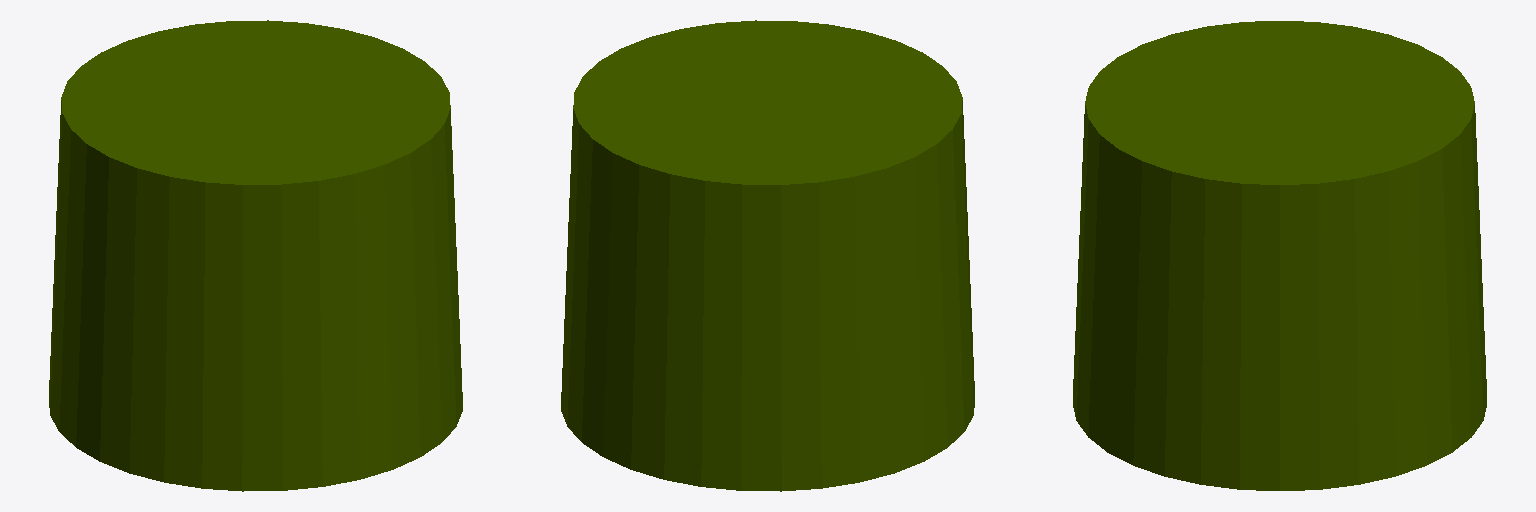
The robot description file, URDF, robot "yellow_cup":
<?xml version="1.0"?>
<robot name="yellow_cup">
<link name="yellow_cup">
    <visual>
      <geometry>
        <mesh filename="package://laas_objects/res/obj/yellow_cup.obj"/>
      </geometry>
      <origin rpy="1.57075 0 0" xyz="0 0 0"/>
      <material name="yellow">
        <color rgba=".3 .4 0 1"/>
      </material>
    </visual>
    <collision>
      <geometry>
        <mesh filename="package://laas_objects/res/obj/yellow_cup.obj"/>
      </geometry>
      <origin rpy="1.57075 0 0" xyz="0 0 0"/>
      <contact_coefficients mu="1000.0" kp="0.00" kd="0.0"/>
    </collision>
    <inertial>
      <mass value="0.15"/>
      <inertia ixx="0.000378125" ixy="0.0" ixz="0.0" iyy="0.000378125" iyz="0.0" izz="0.000378125"/>
    </inertial>
</link>
</robot>

--- Facts derived from the render (not from the file) ---
Views: 3 orthographic renders of the robot side by side, from view 1: azimuth 30°, elevation 25°; view 2: azimuth 150°, elevation 25°; view 3: azimuth 270°, elevation 25°.
Robot: yellow_cup — 1 links, 0 joints (none); root link yellow_cup; default pose: every joint at zero.
Visible links, largest first — view 1: yellow_cup; view 2: yellow_cup; view 3: yellow_cup.
Boxes of the visible links, left/top/right/bottom form: yellow_cup: left=49, top=20, right=462, bottom=491; yellow_cup: left=561, top=20, right=974, bottom=491; yellow_cup: left=1073, top=21, right=1486, bottom=490.
Size in the robot's own frame: 0.0781 by 0.0781 by 0.0625 metres.
Meshes: 1 distinct files referenced, 1 mesh visuals loaded (1 OBJ).